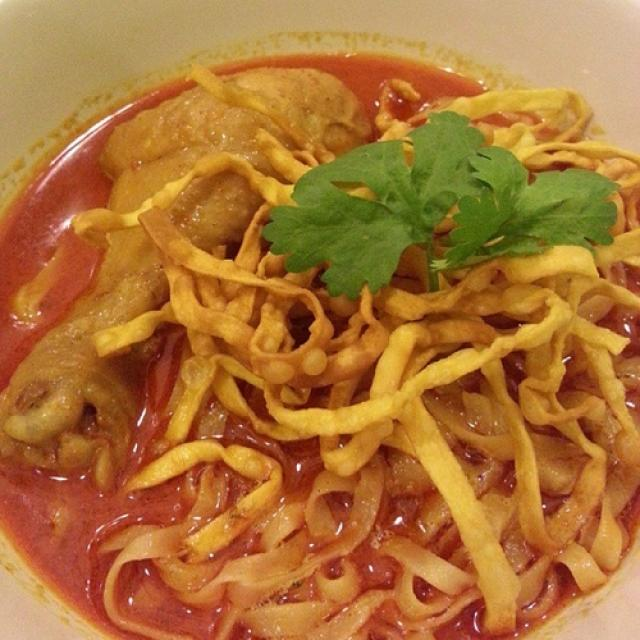面条主食: (18, 45, 617, 621)
